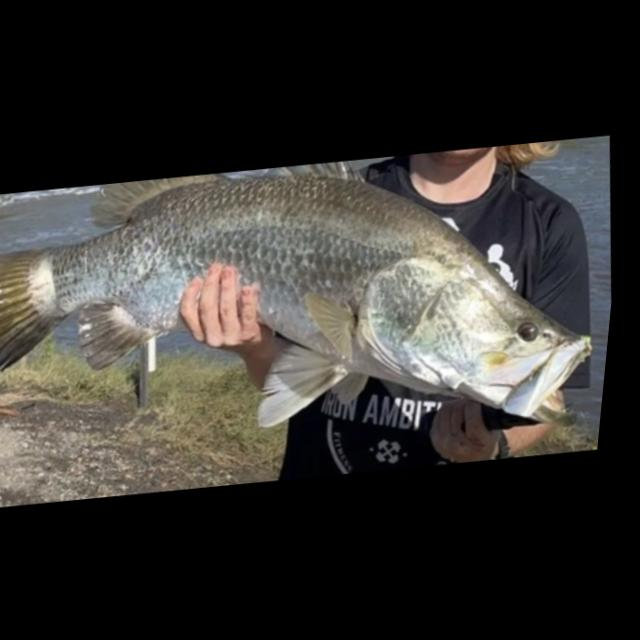Seabass: (0, 132, 620, 484)
